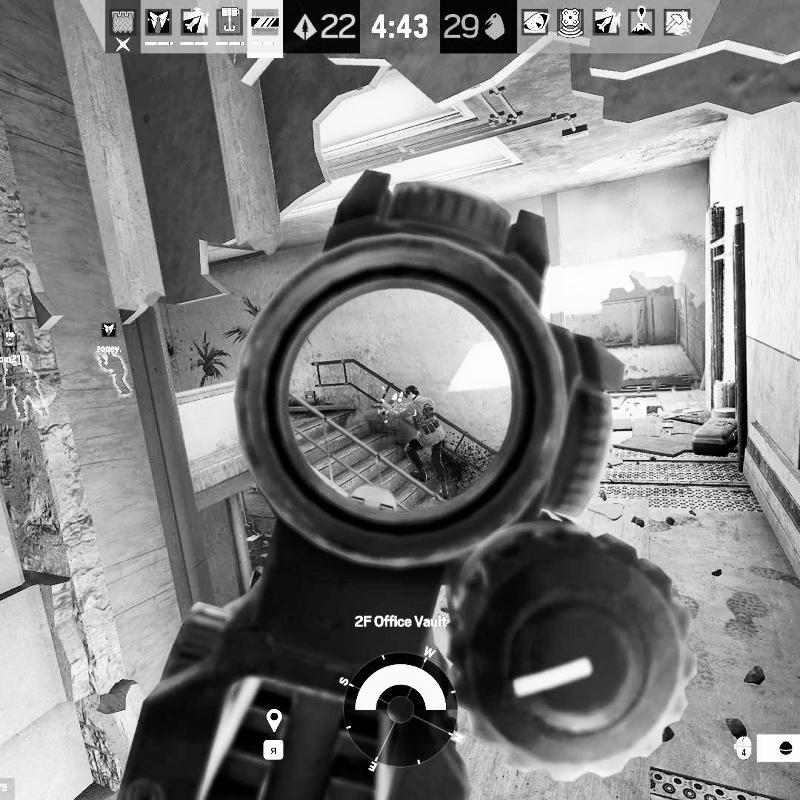Character: (372, 384, 450, 500)
Friend_label: (0, 330, 32, 364), (95, 321, 124, 354)
Head: (405, 384, 419, 400)
